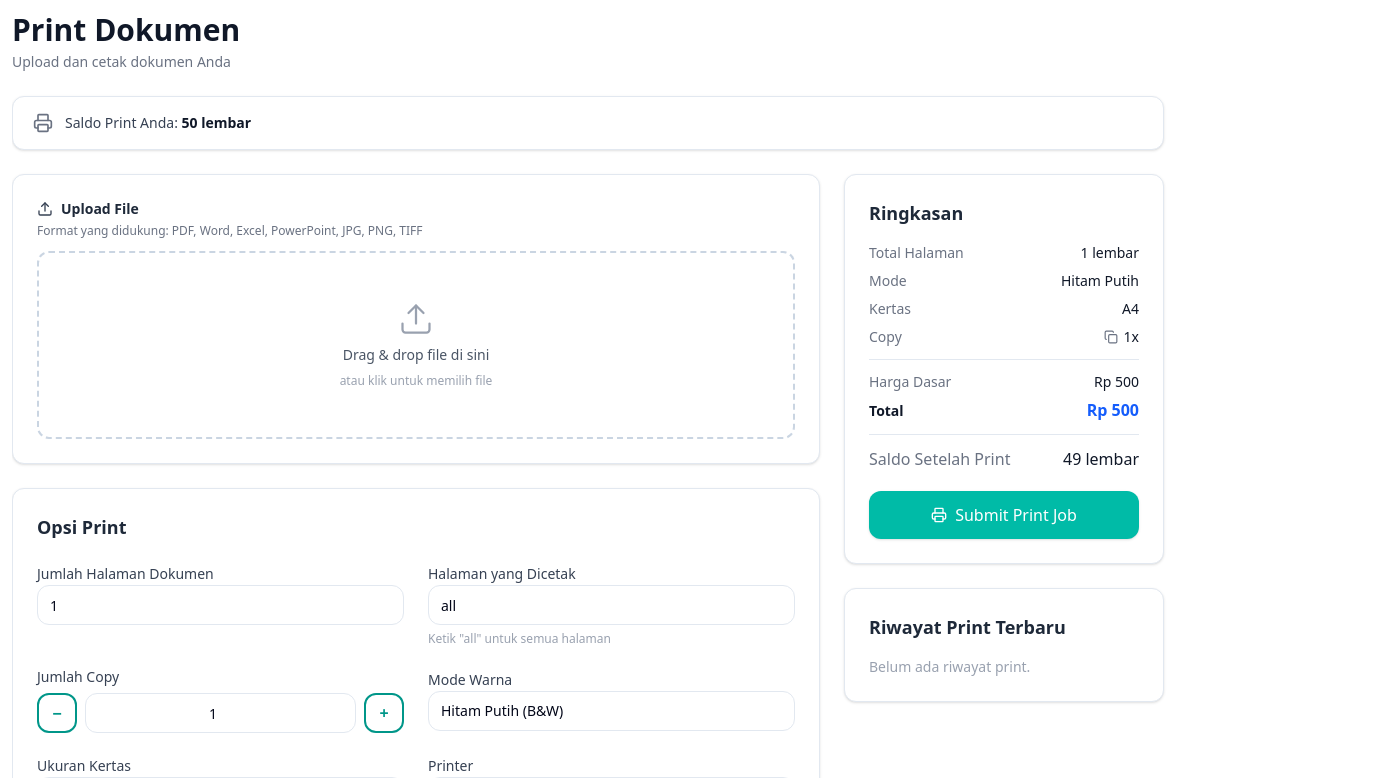
PrintClient (AC-0239 / AC-0240) › AC-0240: submit + error surface › AC-0240: on UNAUTHENTICATED rejection, shows session-expired message
Click the button "Submit Print Job". click: (1004, 515)
box: [869, 491, 1139, 539]
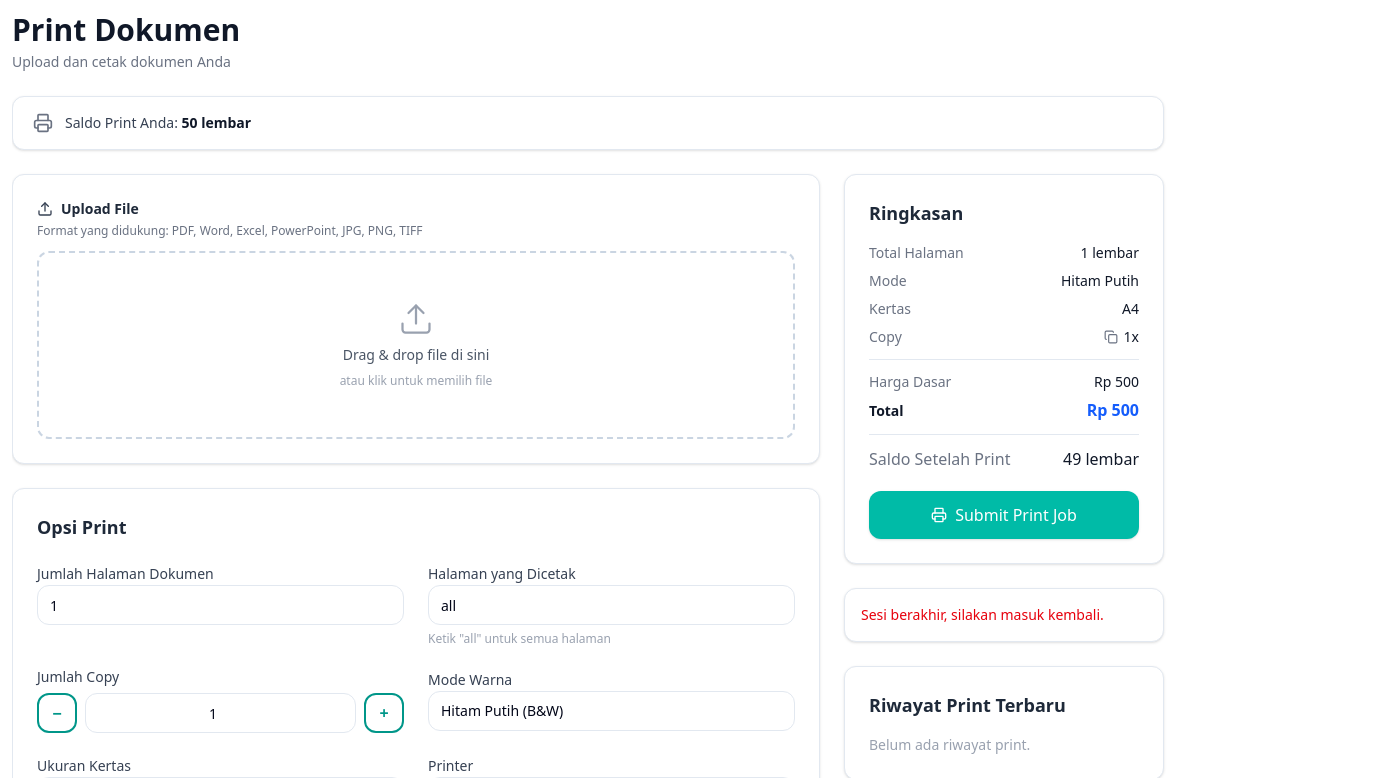
expect the text "Sesi berakhir, silakan masuk kembali." is shown: met, box [861, 605, 1104, 624]
